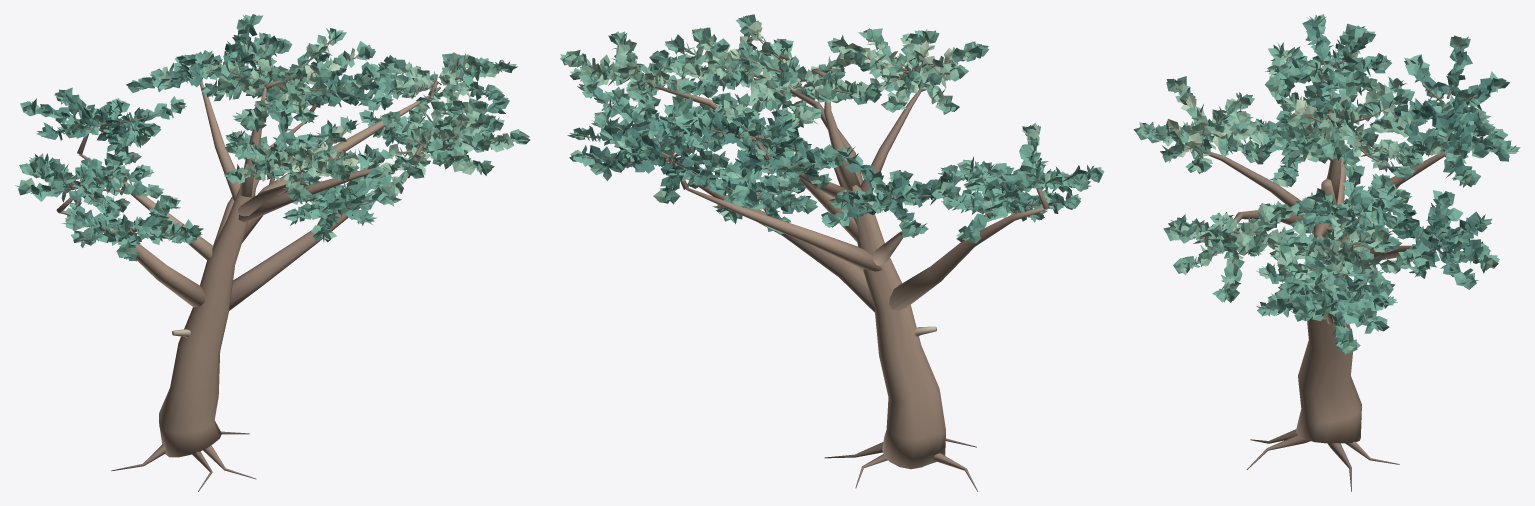
File: windswept_tree.glb
3 renders of one model, left to right at view 1: azimuth 30°, elevation 25°; view 2: azimuth 150°, elevation 25°; view 3: azimuth 270°, elevation 25°, orthographic. The views are drawn at different scales.
Parts seen in each view (by area): view 1: LF_TreeLeaf, LF_TreeBark, LF_TreeLeafLight, LF_TreeLeafDeep, LF_TreeLeafShadow, LF_TreeBarkShadow, LF_TreeBarkSun, LF_TreeTwig, LF_TreeLeafSun; view 2: LF_TreeLeaf, LF_TreeBark, LF_TreeLeafLight, LF_TreeLeafDeep, LF_TreeLeafShadow, LF_TreeBarkShadow, LF_TreeBarkSun, LF_TreeTwig, LF_TreeLeafSun; view 3: LF_TreeLeaf, LF_TreeLeafLight, LF_TreeBark, LF_TreeLeafDeep, LF_TreeLeafShadow, LF_TreeBarkShadow, LF_TreeLeafSun, LF_TreeTwig, LF_TreeBarkSun, LF_TreeBarkDeep.
Boxes of the visible parts, x1,y1,x2,y2 form: LF_TreeLeaf: (15,14,530,259); LF_TreeBark: (57,82,303,457); LF_TreeLeafLight: (24,15,529,258); LF_TreeLeafDeep: (26,19,391,152); LF_TreeLeafShadow: (30,75,500,261); LF_TreeBarkShadow: (111,162,406,479); LF_TreeBarkSun: (79,86,429,260); LF_TreeTwig: (46,40,512,235); LF_TreeLeafSun: (268,37,462,186); LF_TreeLeaf: (560,14,1104,243); LF_TreeBark: (686,146,1047,469); LF_TreeLeafLight: (560,17,1093,239); LF_TreeLeafDeep: (582,94,952,237); LF_TreeLeafShadow: (589,86,1093,233); LF_TreeBarkShadow: (699,89,977,491); LF_TreeBarkSun: (654,86,902,266); LF_TreeTwig: (584,35,1086,222); LF_TreeLeafSun: (714,21,970,73); LF_TreeLeaf: (1133,14,1520,354); LF_TreeLeafLight: (1141,15,1517,351); LF_TreeBark: (1296,91,1445,443); LF_TreeLeafDeep: (1394,48,1511,276); LF_TreeLeafShadow: (1249,19,1404,341); LF_TreeBarkShadow: (1209,152,1399,469); LF_TreeLeafSun: (1143,83,1369,241); LF_TreeTwig: (1168,40,1482,325); LF_TreeBarkSun: (1313,154,1423,242); LF_TreeBarkDeep: (1250,429,1351,491).
Bounding box in the file's own units: 3.6 × 2.59 × 2.19.
